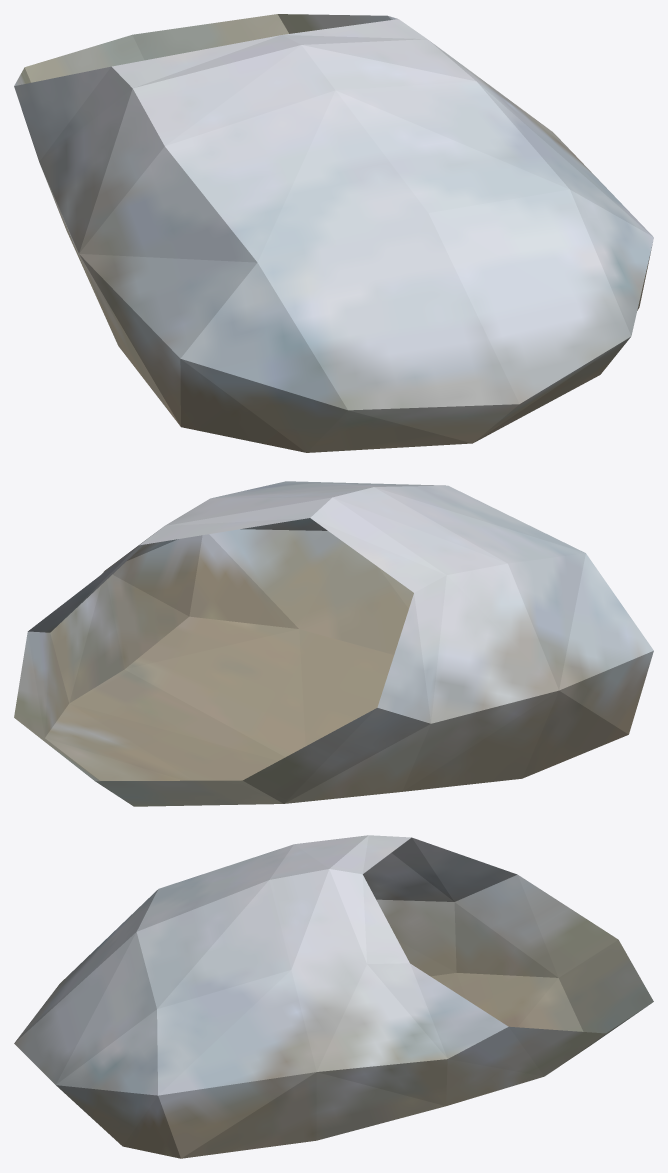
Rendered from Pata2_Delantera_Der.obj.
The picture shows the model from 3 angles, top to bottom: view 1: azimuth 30°, elevation 25°; view 2: azimuth 150°, elevation 25°; view 3: azimuth 270°, elevation 25°; orthographic projection. The views are drawn at different scales.
Visible parts, largest first — view 1: Pata2_Delantera_DerpolySurface16polySurface14polySurface11polySu; view 2: Pata2_Delantera_DerpolySurface16polySurface14polySurface11polySu; view 3: Pata2_Delantera_DerpolySurface16polySurface14polySurface11polySu.
Boxes of the visible parts, left/top/right/bottom form: Pata2_Delantera_DerpolySurface16polySurface14polySurface11polySu: left=14, top=14, right=653, bottom=452; Pata2_Delantera_DerpolySurface16polySurface14polySurface11polySu: left=14, top=481, right=653, bottom=806; Pata2_Delantera_DerpolySurface16polySurface14polySurface11polySu: left=14, top=835, right=653, bottom=1158.
Bounding box in the file's own units: 0.0341 × 0.0203 × 0.0511.
1 material, 1 textured.
